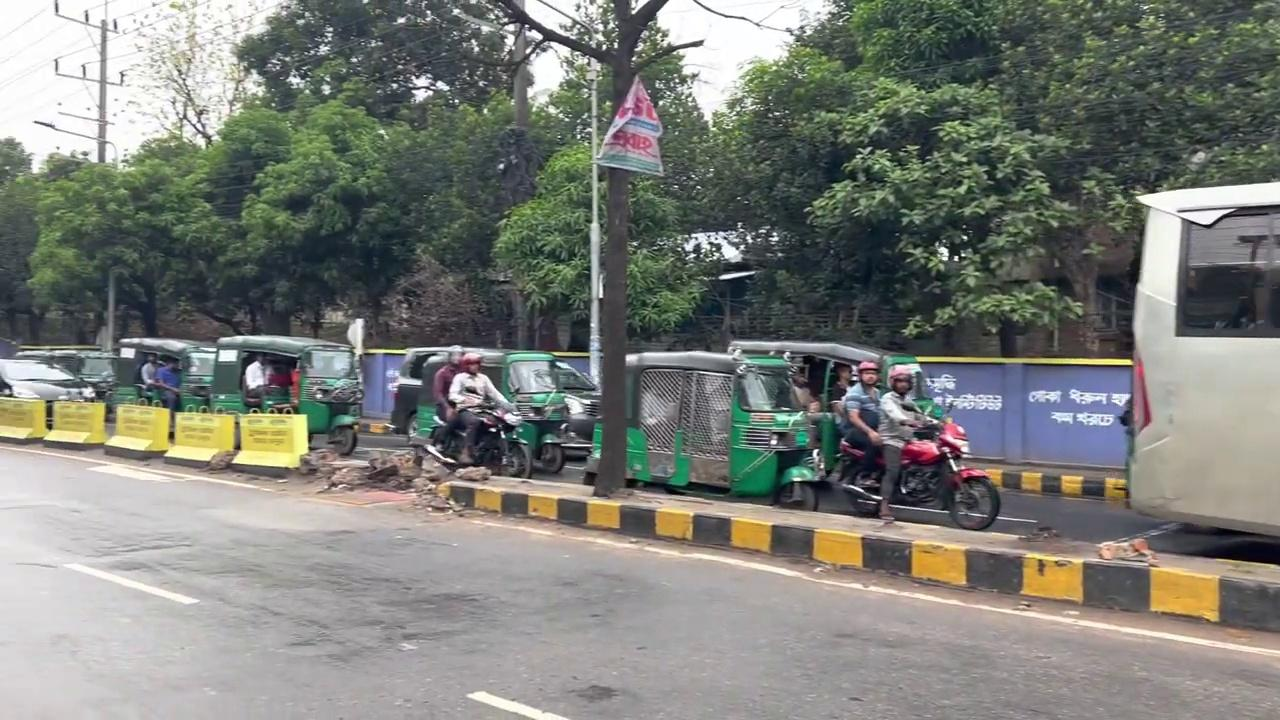Broken-road: (0, 372, 322, 494)
Car: (438, 475, 1278, 633)
Curb: (835, 404, 1001, 530), (409, 399, 533, 479)
Fence: (875, 367, 941, 523), (446, 351, 518, 464)
Garbage: (591, 167, 630, 496), (584, 63, 602, 388)
Rickshaw: (1124, 178, 1279, 538)
